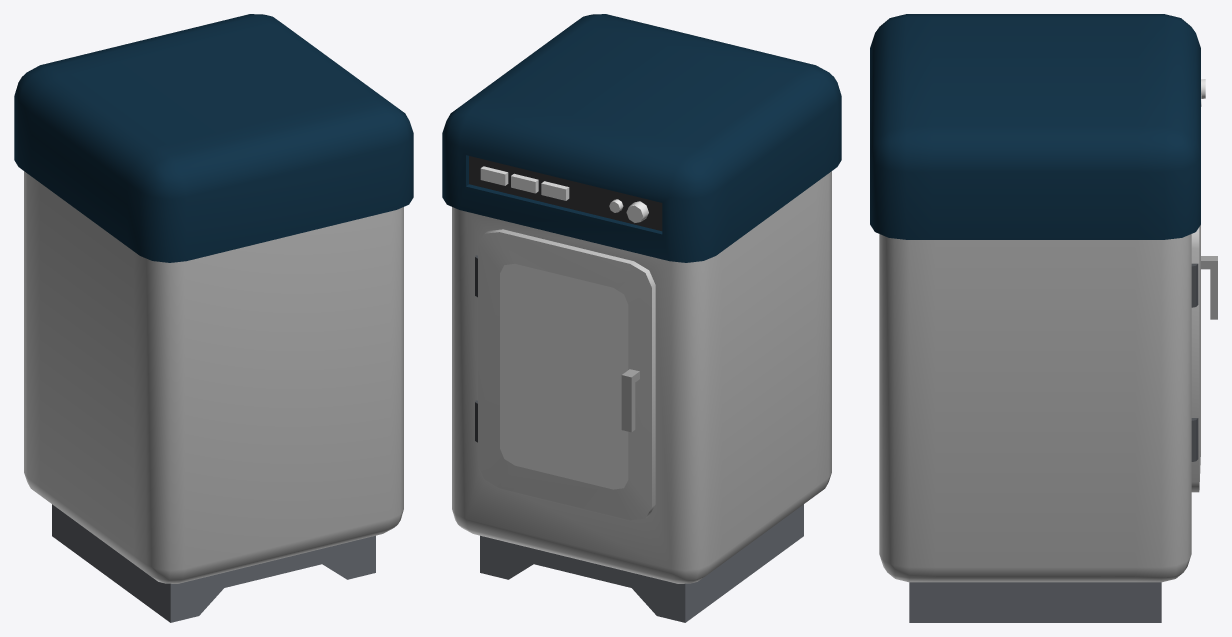
File: ChemicalHeater.fbx
3 views of the same model, side by side, from view 1: azimuth 30°, elevation 25°; view 2: azimuth 150°, elevation 25°; view 3: azimuth 270°, elevation 25° (orthographic). The views are drawn at different scales.
Parts seen in each view (by area): view 1: ChemicalHeater; view 2: ChemicalHeater, ChemicalHeaterDoor; view 3: ChemicalHeater, ChemicalHeaterDoor.
Boxes of the visible parts, left/top/right/bottom form: ChemicalHeater: left=14, top=14, right=413, bottom=622; ChemicalHeater: left=442, top=14, right=841, bottom=622; ChemicalHeaterDoor: left=478, top=229, right=655, bottom=520; ChemicalHeater: left=870, top=14, right=1205, bottom=622; ChemicalHeaterDoor: left=1191, top=225, right=1217, bottom=492.
Bounding box in the file's own units: 0.5502 × 0.9133 × 0.5785.
